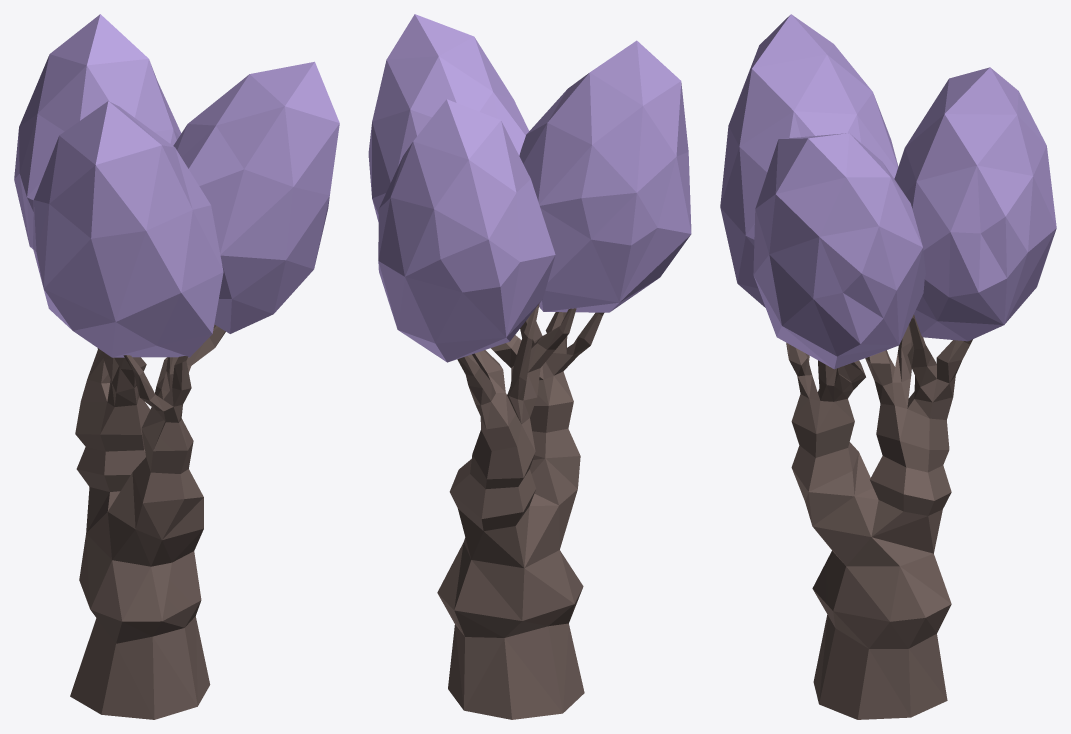
File: fantasy_plant_015.fbx
The picture shows the model from 3 angles, left to right: view 1: azimuth 30°, elevation 25°; view 2: azimuth 150°, elevation 25°; view 3: azimuth 270°, elevation 25°; orthographic projection.
Visible parts, largest first — view 1: fantasy_plant.015; view 2: fantasy_plant.015; view 3: fantasy_plant.015.
Part boxes in pixels (x1,y1,x2,y2): fantasy_plant.015: (14, 14, 339, 719); fantasy_plant.015: (368, 14, 691, 719); fantasy_plant.015: (720, 14, 1056, 719).
Bounding box in the file's own units: 674 × 1390 × 662.
1 material, 1 textured.
